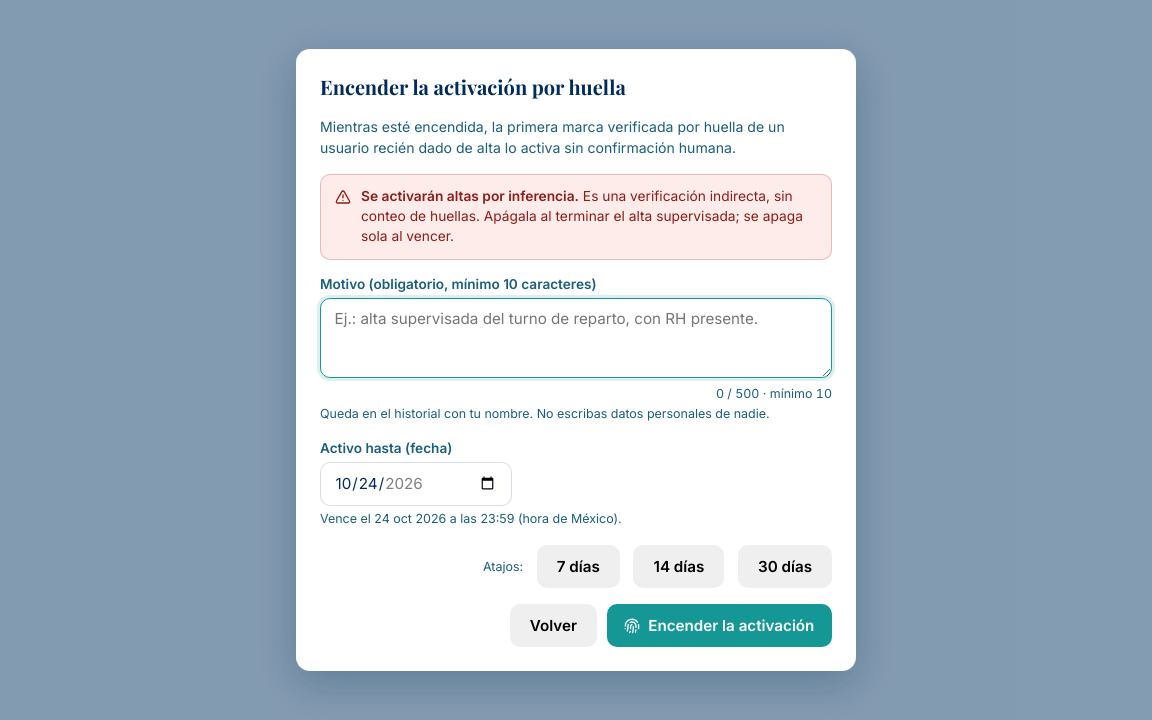
CambiarInterruptorHuellaModal › los atajos 7/14/30 rellenan la fecha dentro del rango
The width and height of the screenshot is (1152, 720).
Step 1. Click the button "7 días" → (578, 566), box [537, 545, 620, 588]
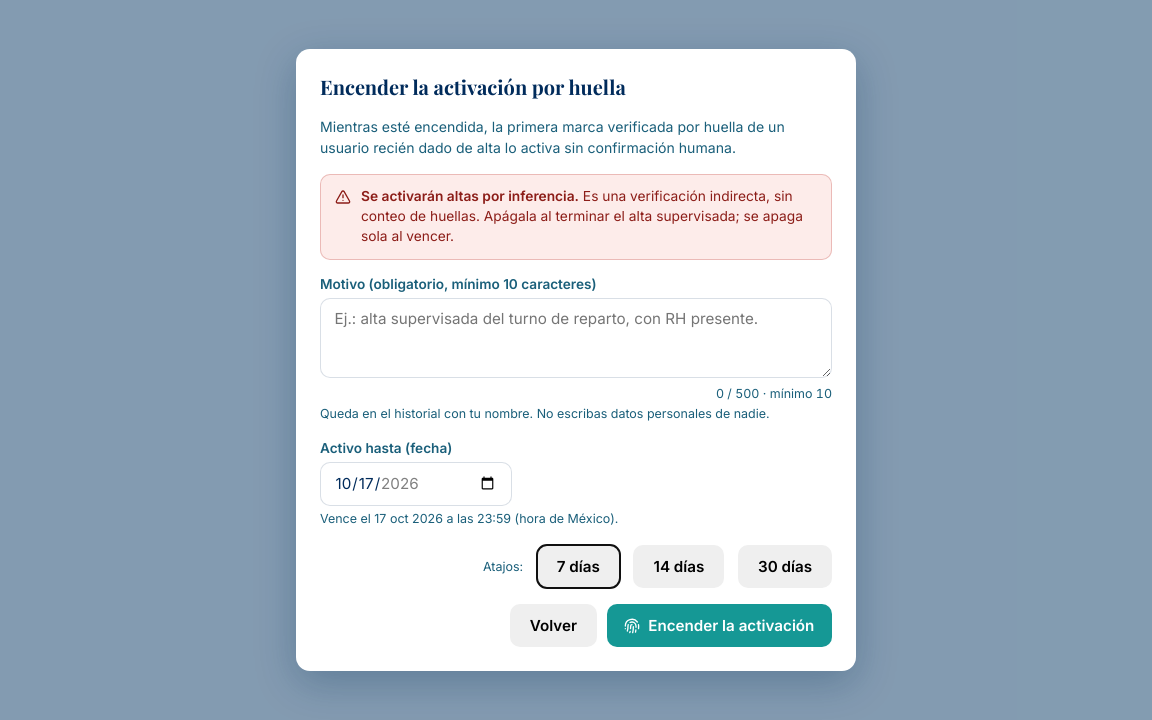
Expected: the date field labelled "Activo hasta (fecha)" holds "2026-10-17", [320, 462, 512, 506]
Step 2. Click the button "30 días" → (785, 566), box [738, 545, 832, 588]
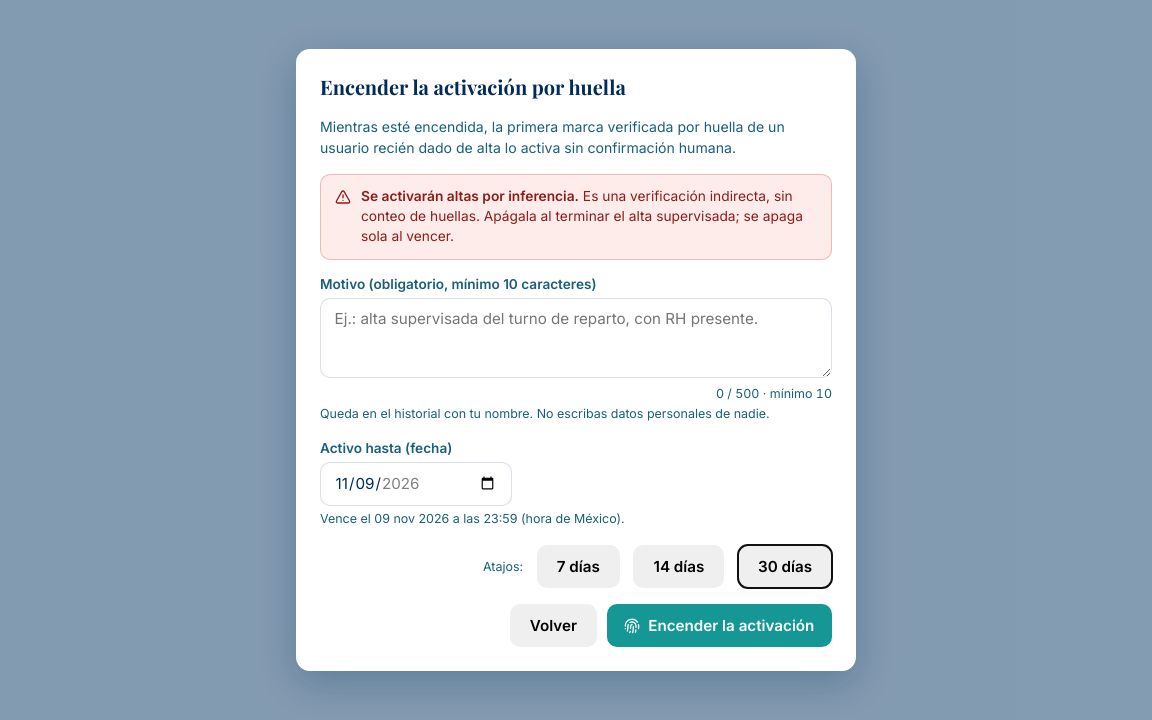
Expected: the date field labelled "Activo hasta (fecha)" holds "2026-11-09", [320, 462, 512, 506]
Step 3. Click the button "14 días" → (679, 566), box [634, 545, 724, 588]
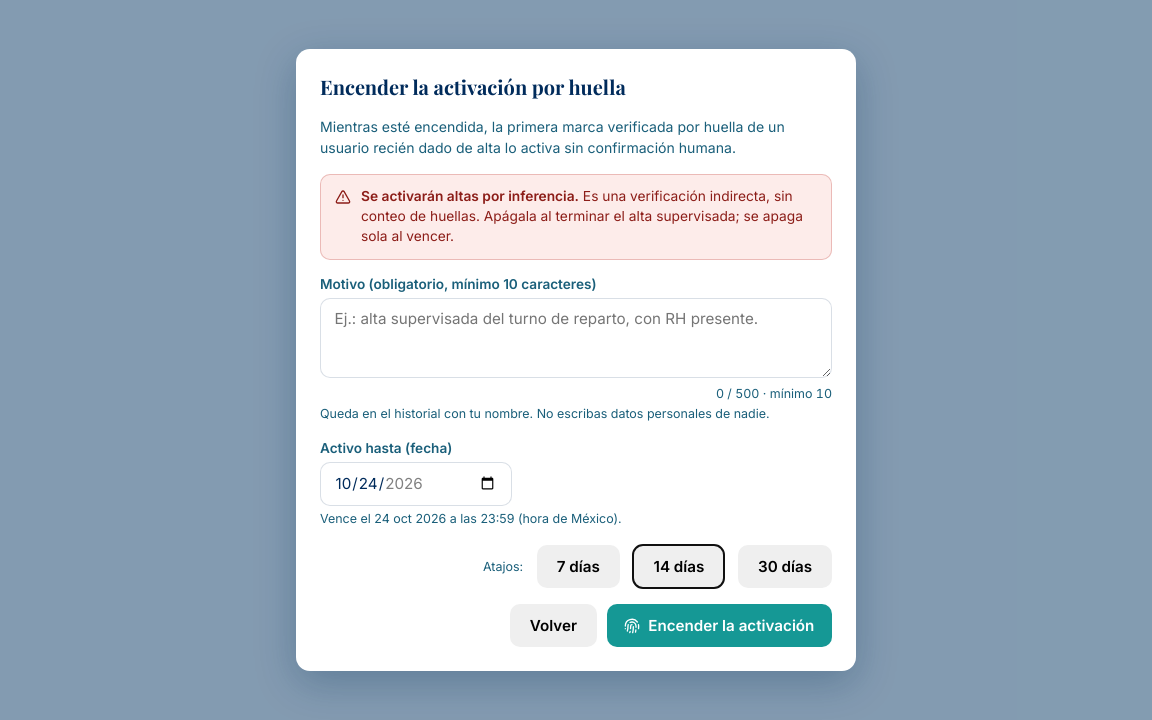
Expected: the date field labelled "Activo hasta (fecha)" holds "2026-10-24", [320, 462, 512, 506]
